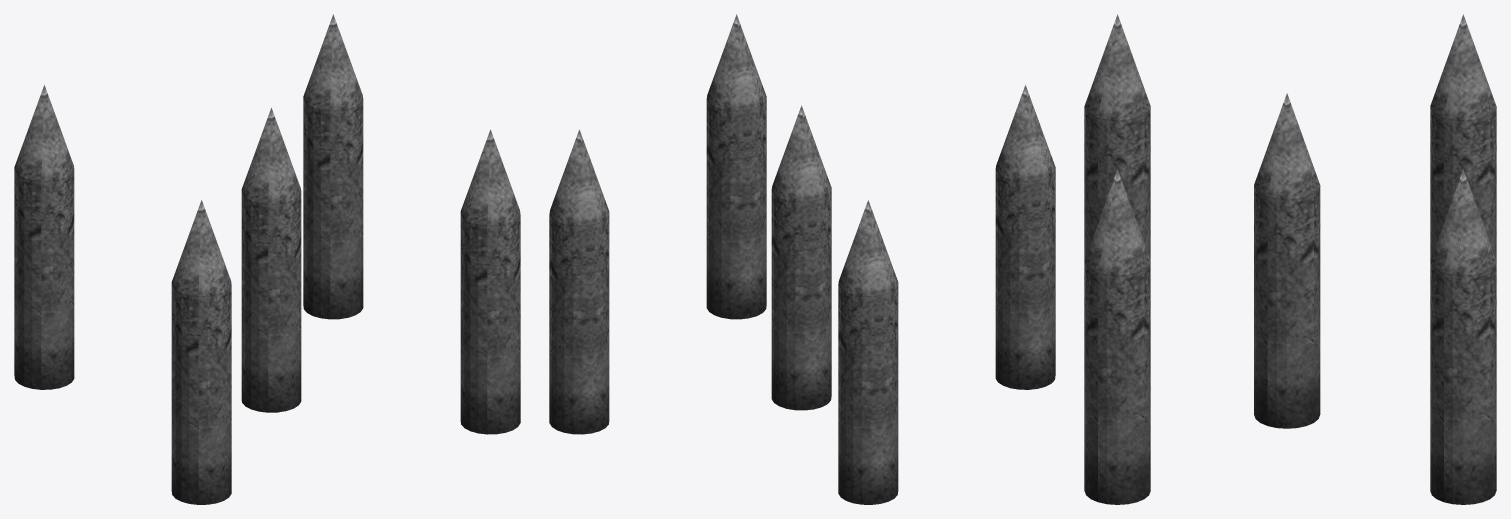
File: Spikes.fbx
The picture shows the model from 3 angles, left to right: view 1: azimuth 30°, elevation 25°; view 2: azimuth 150°, elevation 25°; view 3: azimuth 270°, elevation 25°; orthographic projection. The views are drawn at different scales.
Visible parts, largest first — view 1: Spikes; view 2: Spikes; view 3: Spikes.
Boxes of the visible parts, x1,y1,x2,y2 form: Spikes: (14, 14, 520, 504); Spikes: (549, 14, 1055, 504); Spikes: (1084, 14, 1496, 504).
Size of the model in its own units: 198 by 163 by 188.
